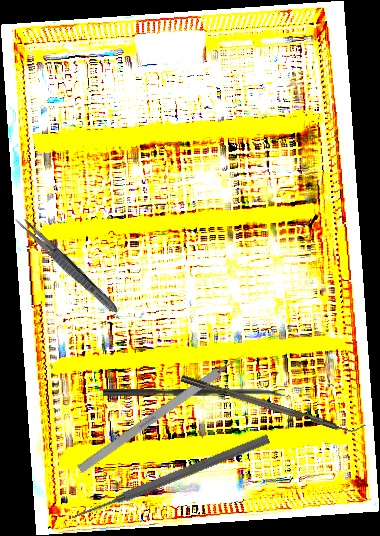Chopper: (180, 366, 366, 440)
Dressing Forceps: (11, 212, 123, 318)
Hook Surgical: (76, 346, 254, 474)
Pusher: (69, 431, 271, 525)
Surgical Spoon: (103, 389, 285, 397)
